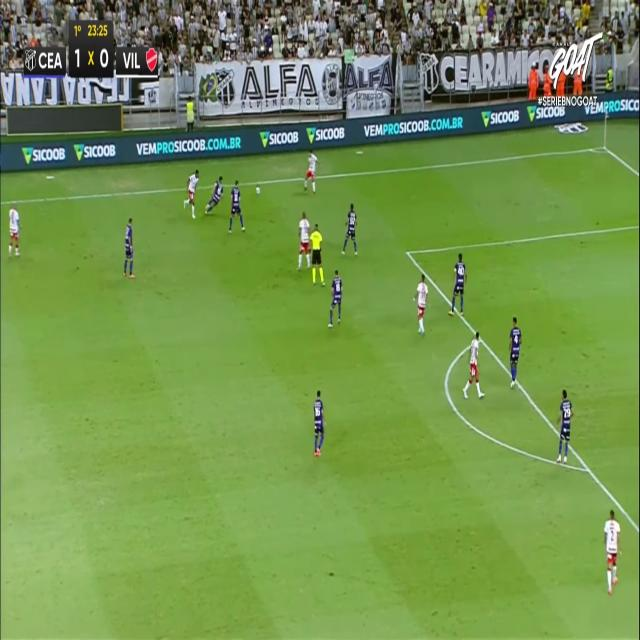ball: (255, 183, 260, 196)
player: (604, 509, 621, 592), (463, 331, 484, 398), (556, 388, 572, 462), (449, 252, 466, 315), (509, 315, 522, 388), (341, 202, 358, 255), (413, 274, 428, 333), (228, 179, 244, 232), (204, 174, 223, 215), (329, 268, 342, 326), (313, 389, 324, 456), (184, 169, 198, 218), (298, 211, 310, 268), (303, 147, 318, 192), (124, 217, 135, 278), (9, 203, 21, 256)
referee: (309, 221, 325, 284)
